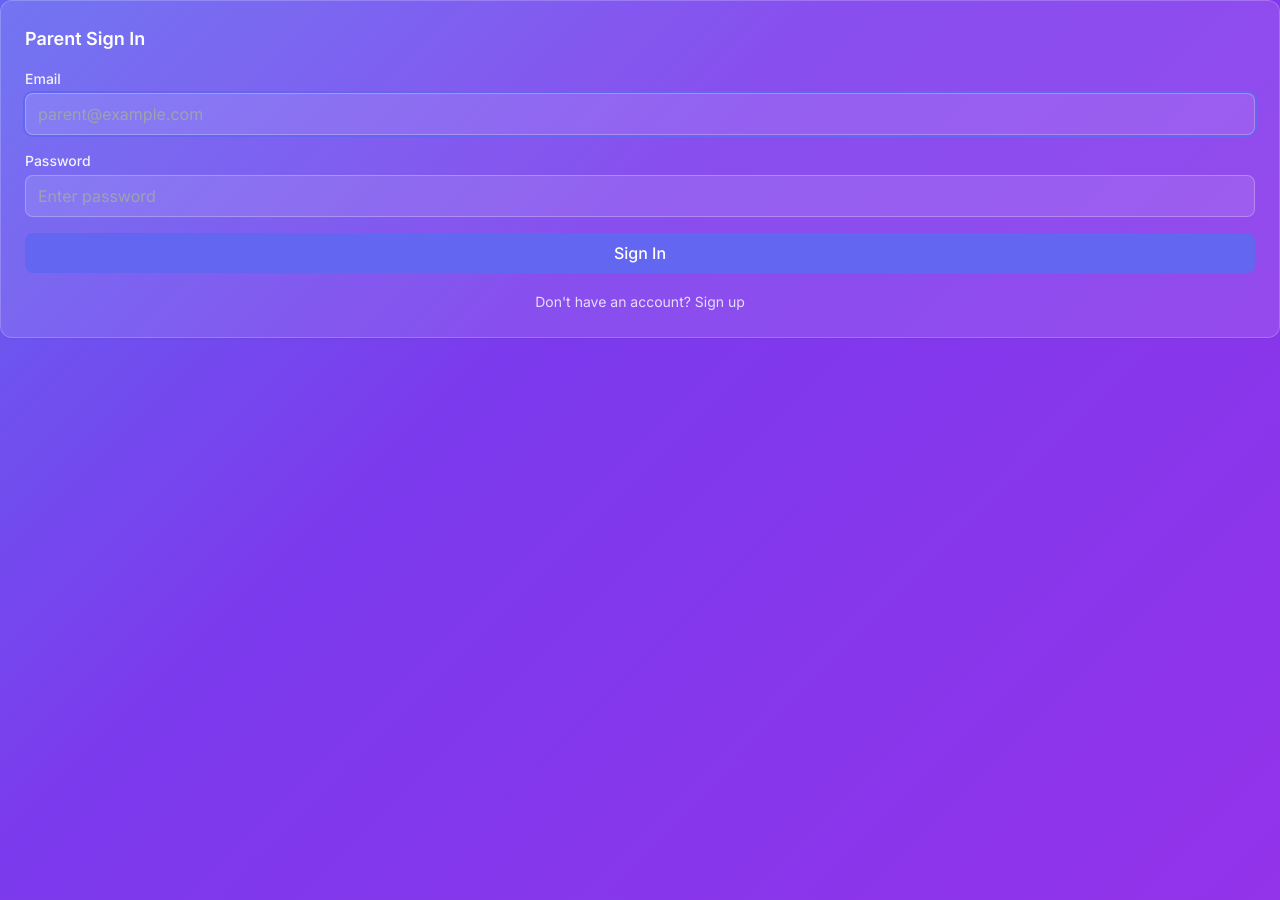
AuthForm › sign in mode (default) › should show validation error for invalid email
The width and height of the screenshot is (1280, 900).
In the field labelled "Email": (640, 114) [25,93,1255,135], type "not-an-email"
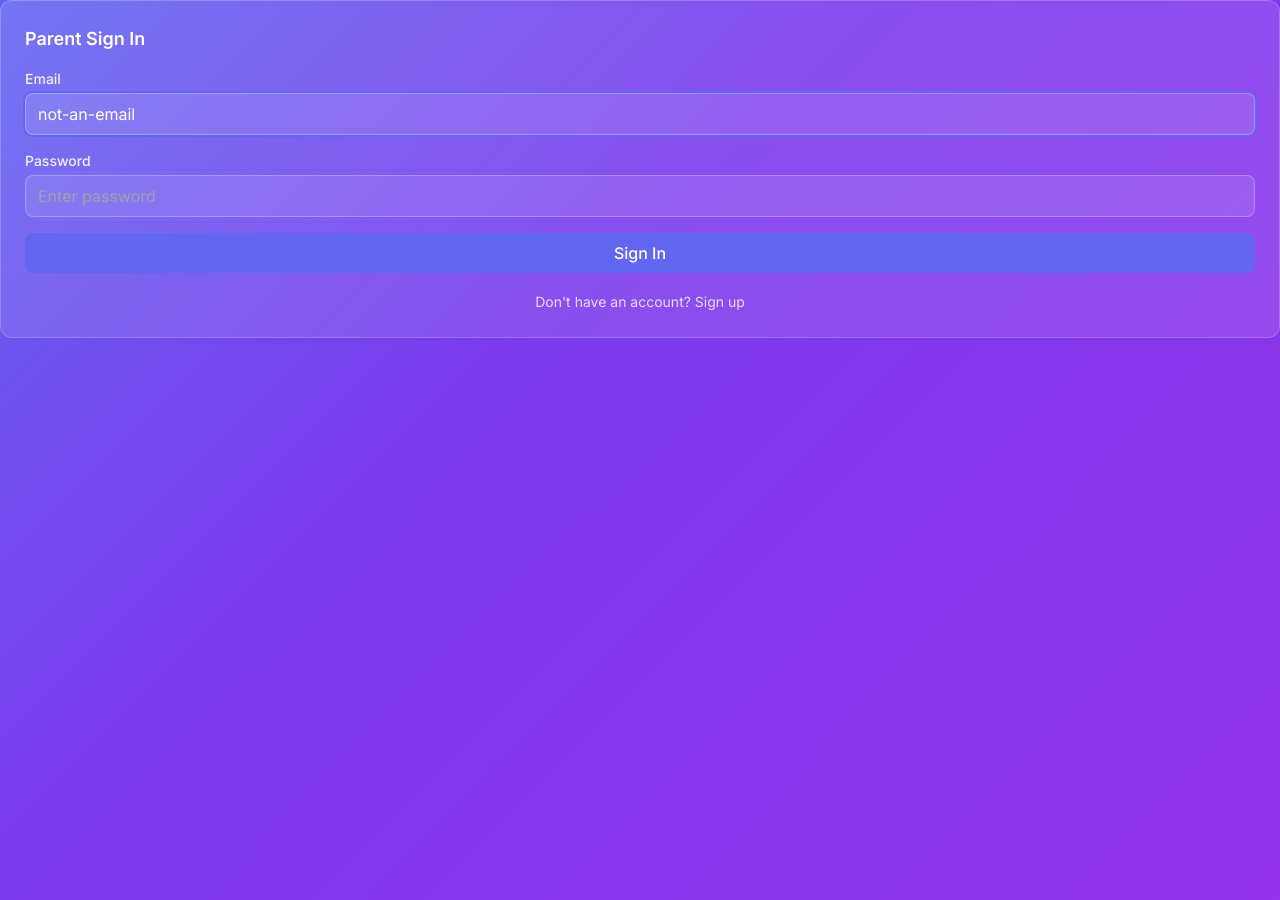
Click the button "Sign In": (640, 253) [25,233,1255,273]
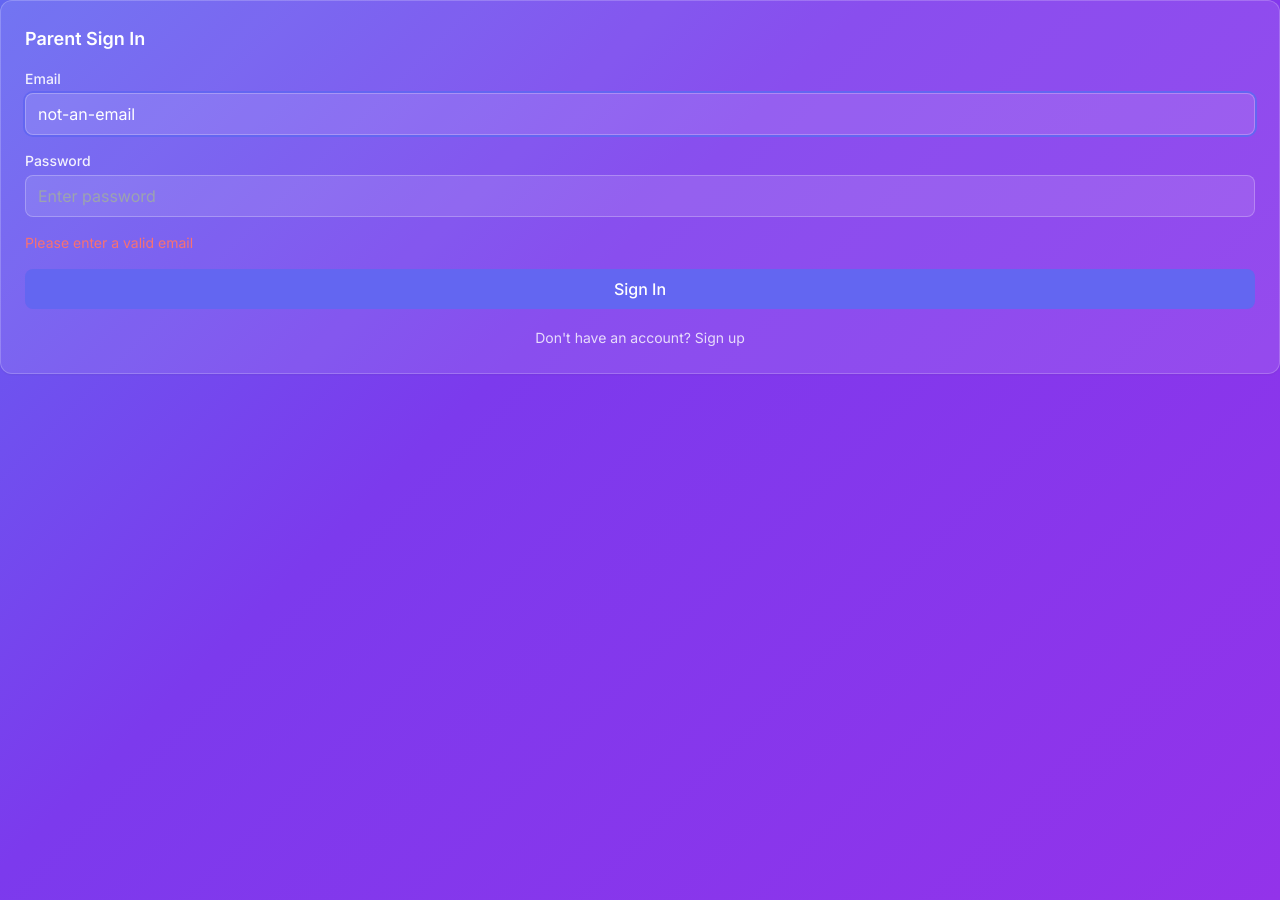
Now the text "Please enter a valid email" is shown, box [25,234,193,251]
